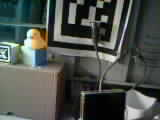duck: (13, 24, 49, 55)
